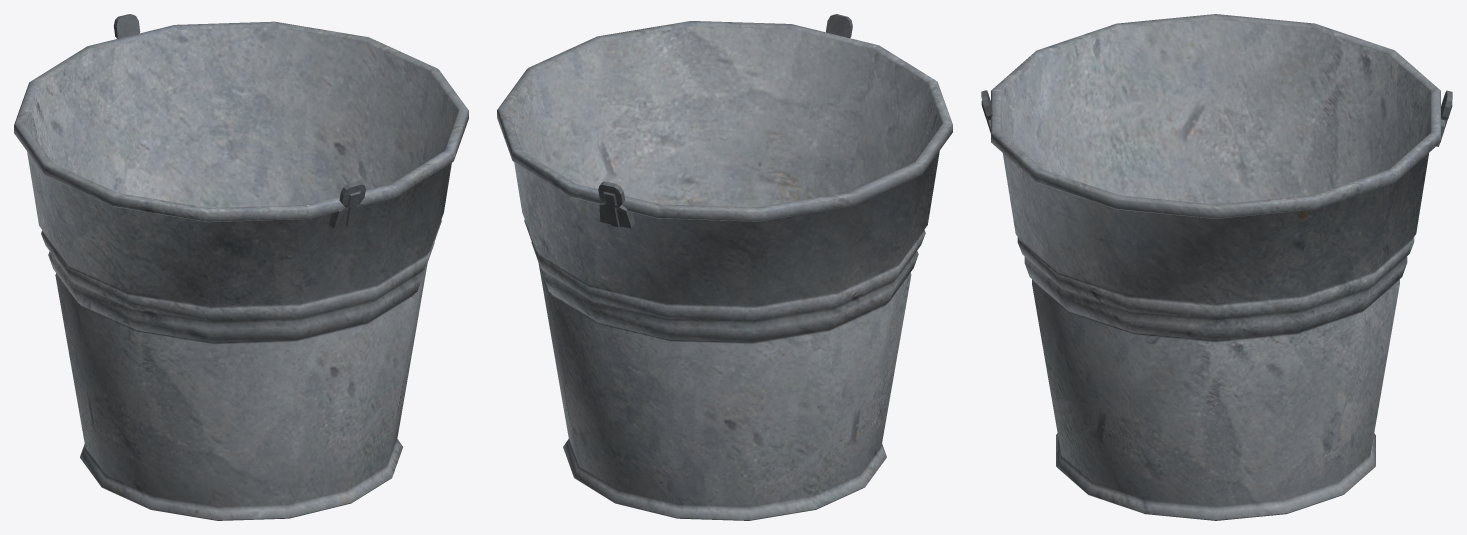
The model's file is bucket base.fbx.
3 renders of one model, left to right at view 1: azimuth 30°, elevation 25°; view 2: azimuth 150°, elevation 25°; view 3: azimuth 270°, elevation 25°, orthographic.
Visible parts, largest first — view 1: Bucket, sides.001, sides; view 2: Bucket, sides; view 3: Bucket.
Part boxes in pixels (x1,y1,x2,y2): Bucket: [14, 21, 468, 520]; sides.001: [329, 181, 365, 228]; sides: [113, 14, 140, 38]; Bucket: [497, 21, 952, 520]; sides: [598, 181, 635, 228]; Bucket: [991, 14, 1440, 520].
Size of the model in its own units: 262 by 224 by 267.
Materials: 1 (1 with a texture image).
